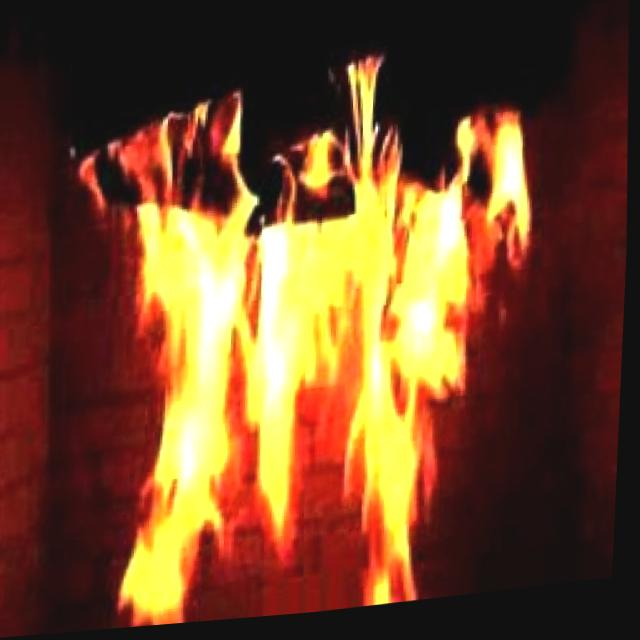Fire: (54, 39, 564, 635)
